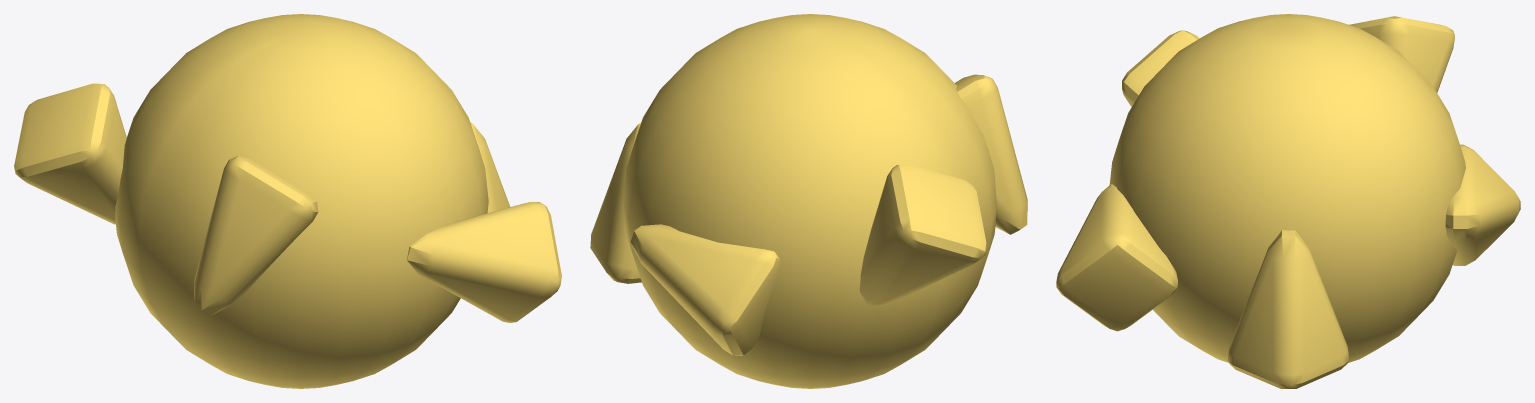
File: object-rainbow-pillow.glb
3 renders of one model, left to right at view 1: azimuth 30°, elevation 25°; view 2: azimuth 150°, elevation 25°; view 3: azimuth 270°, elevation 25°, orthographic. The views are drawn at different scales.
Visible parts, largest first — view 1: part-body-mesh; view 2: part-body-mesh; view 3: part-body-mesh.
Boxes of the visible parts, bbox=[...] form: part-body-mesh: bbox=[14, 14, 561, 388]; part-body-mesh: bbox=[590, 14, 1027, 388]; part-body-mesh: bbox=[1056, 14, 1520, 388].
Bounding box in the file's own units: 0.7708 × 0.56 × 0.7218.
